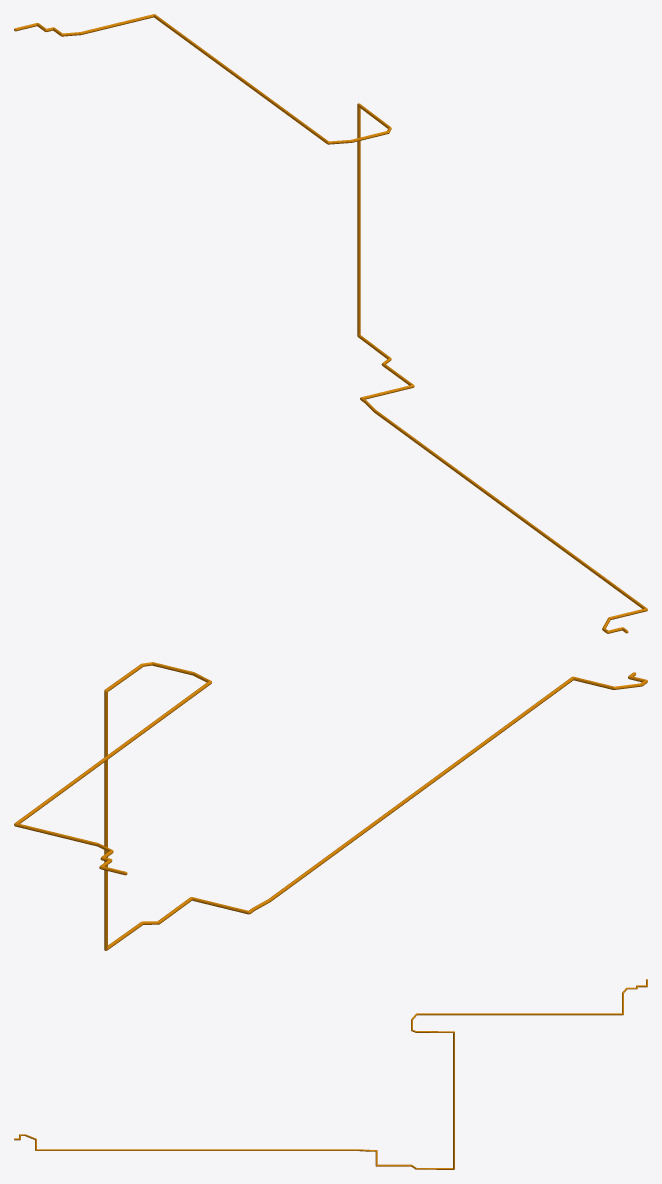
3 views of the same model, one above another, from view 1: azimuth 30°, elevation 25°; view 2: azimuth 150°, elevation 25°; view 3: azimuth 270°, elevation 25° (orthographic). The views are drawn at different scales.
Size of the model in its own units: 1247 by 1520 by 6301.
